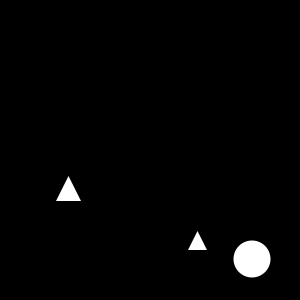rectangle: (234, 240, 270, 278)
triangle: (56, 176, 81, 201), (188, 231, 207, 250)
